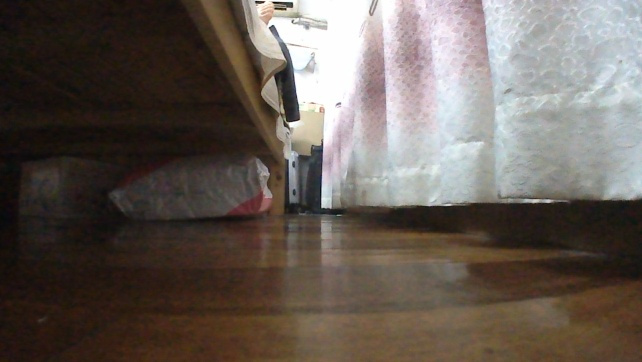bed1: (0, 0, 297, 218)
